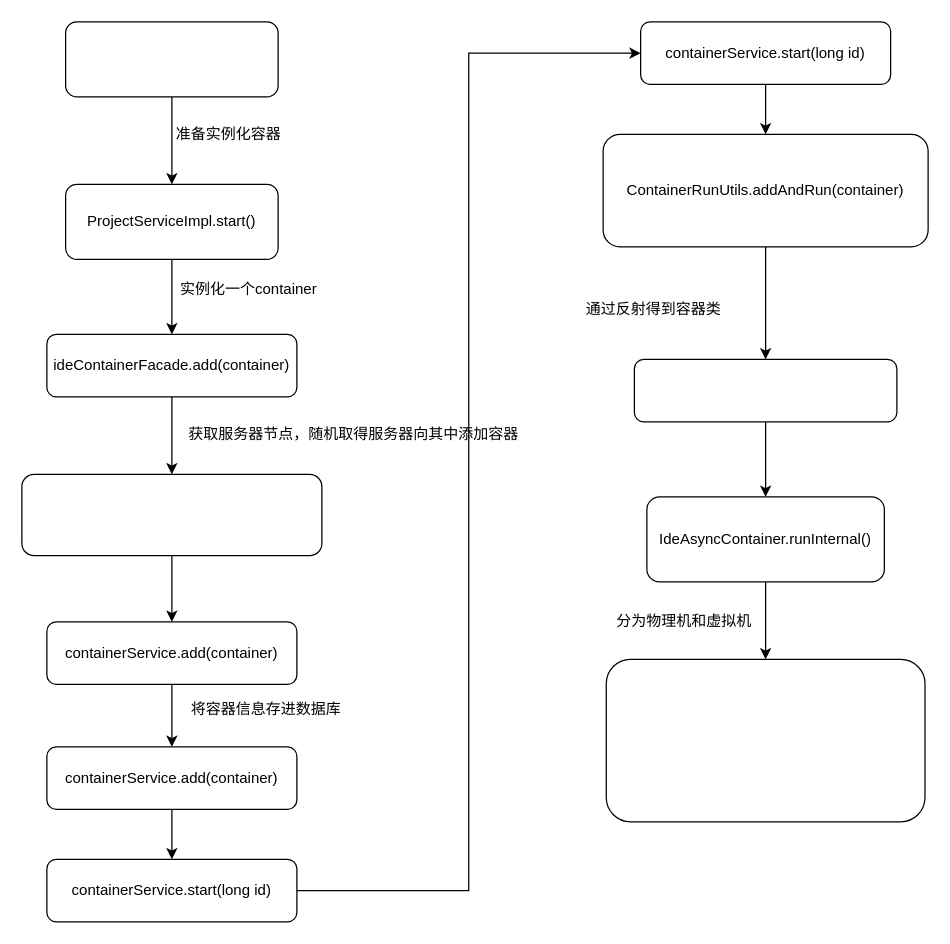
This 950x944 diagram has some shape labels left out. Each missing label, with the centre of its shape:
"abstractContainer.run()" goes at point (765, 390).
"CommandUtils.runShellWithCodeAndResult()" goes at point (765, 740).
"ideContainer4InnerFacade.add(container)" goes at point (171, 514).
"ProjectController.java.start()" goes at point (171, 59).
